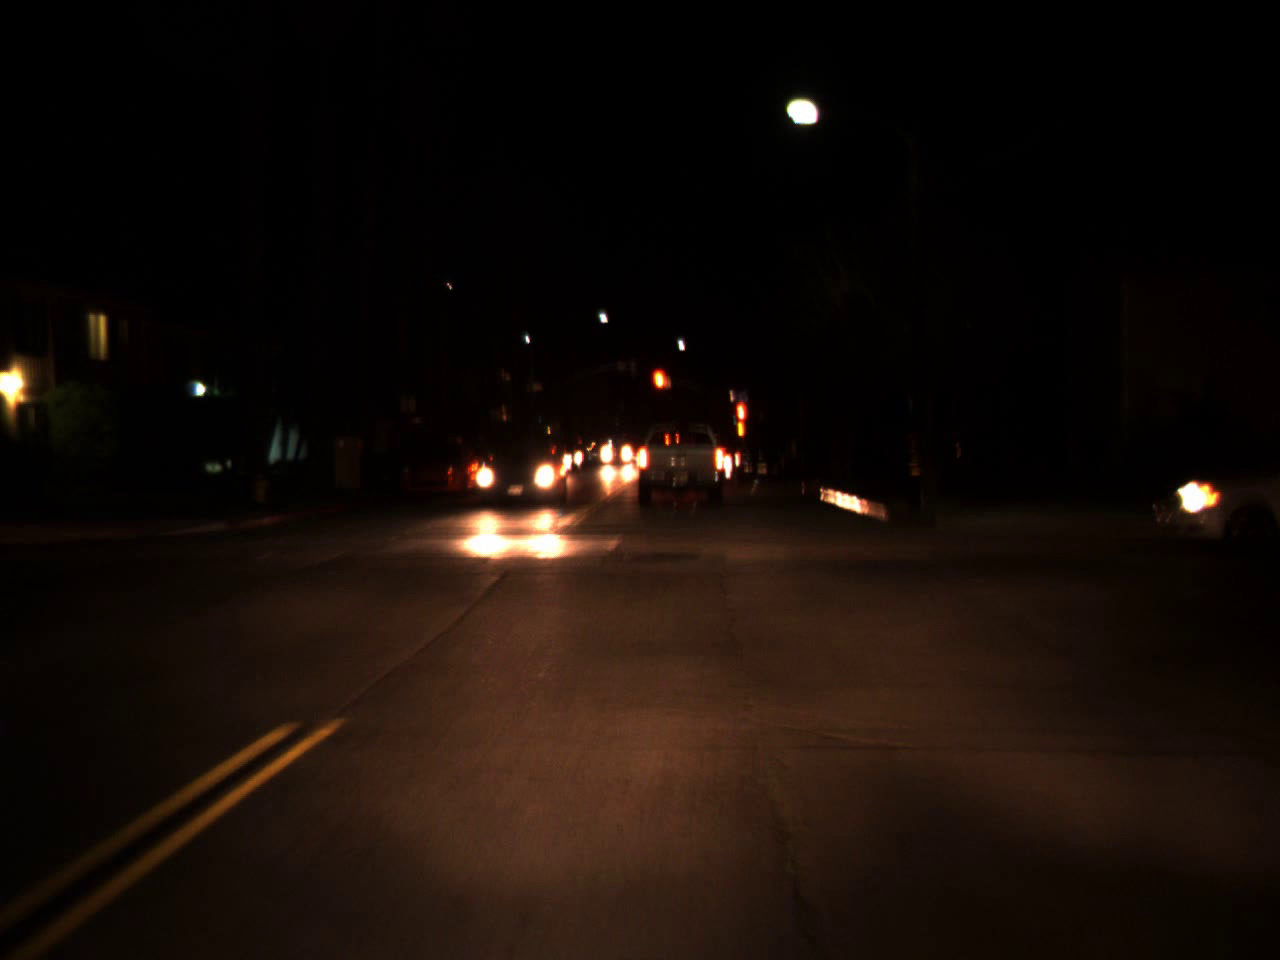stop: (650, 365, 671, 413), (733, 399, 748, 439)
